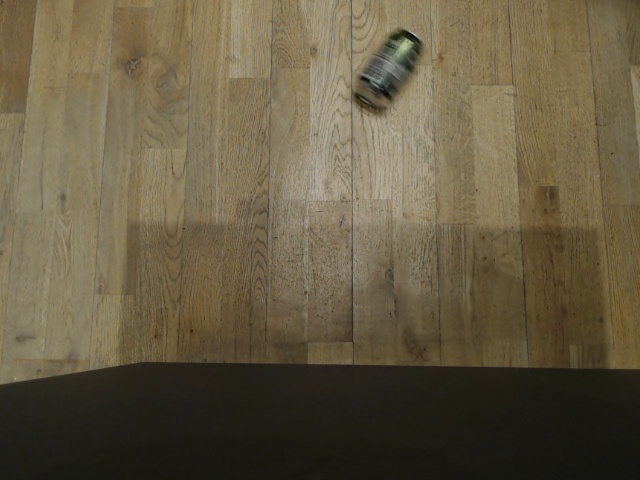beer: (348, 27, 428, 110)
